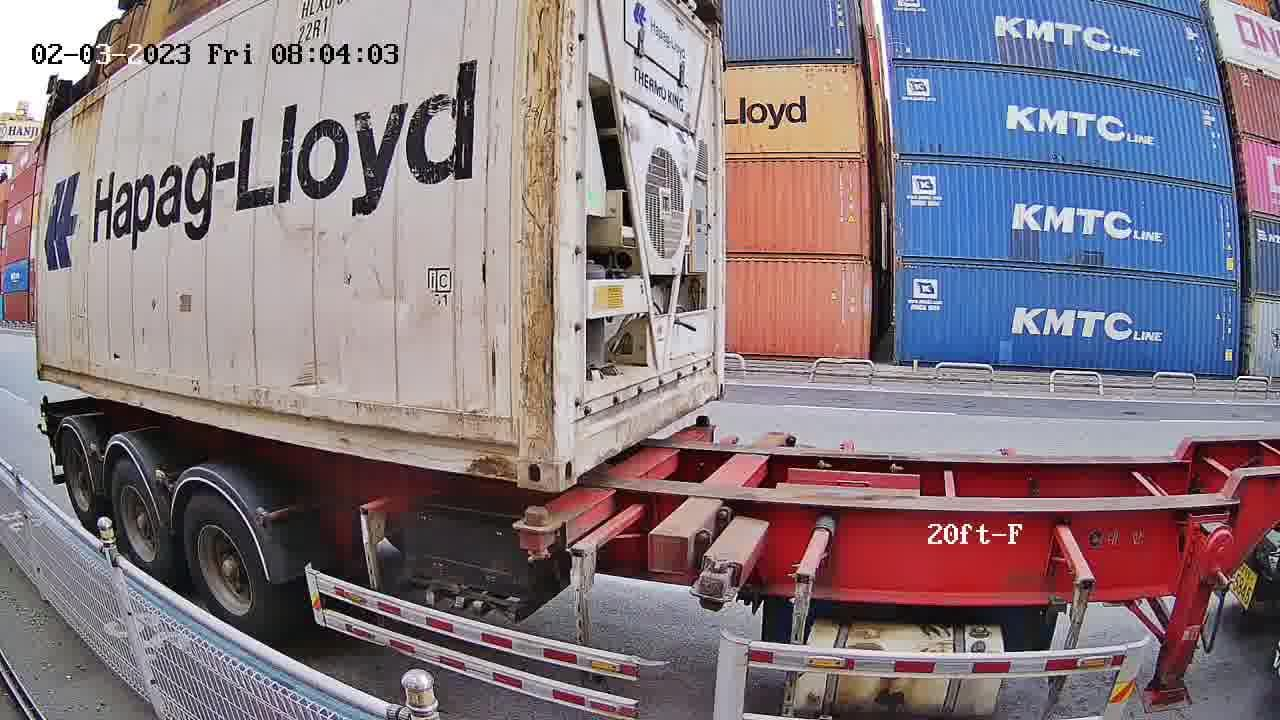Chassis: (514, 424, 714, 548)
Cone: (516, 505, 553, 562), (693, 415, 714, 429)
Hole_L: (555, 413, 601, 493)
Hole_R: (482, 414, 555, 493), (705, 359, 727, 403)
Tire: (181, 492, 270, 635), (108, 460, 168, 584), (62, 434, 99, 523)
